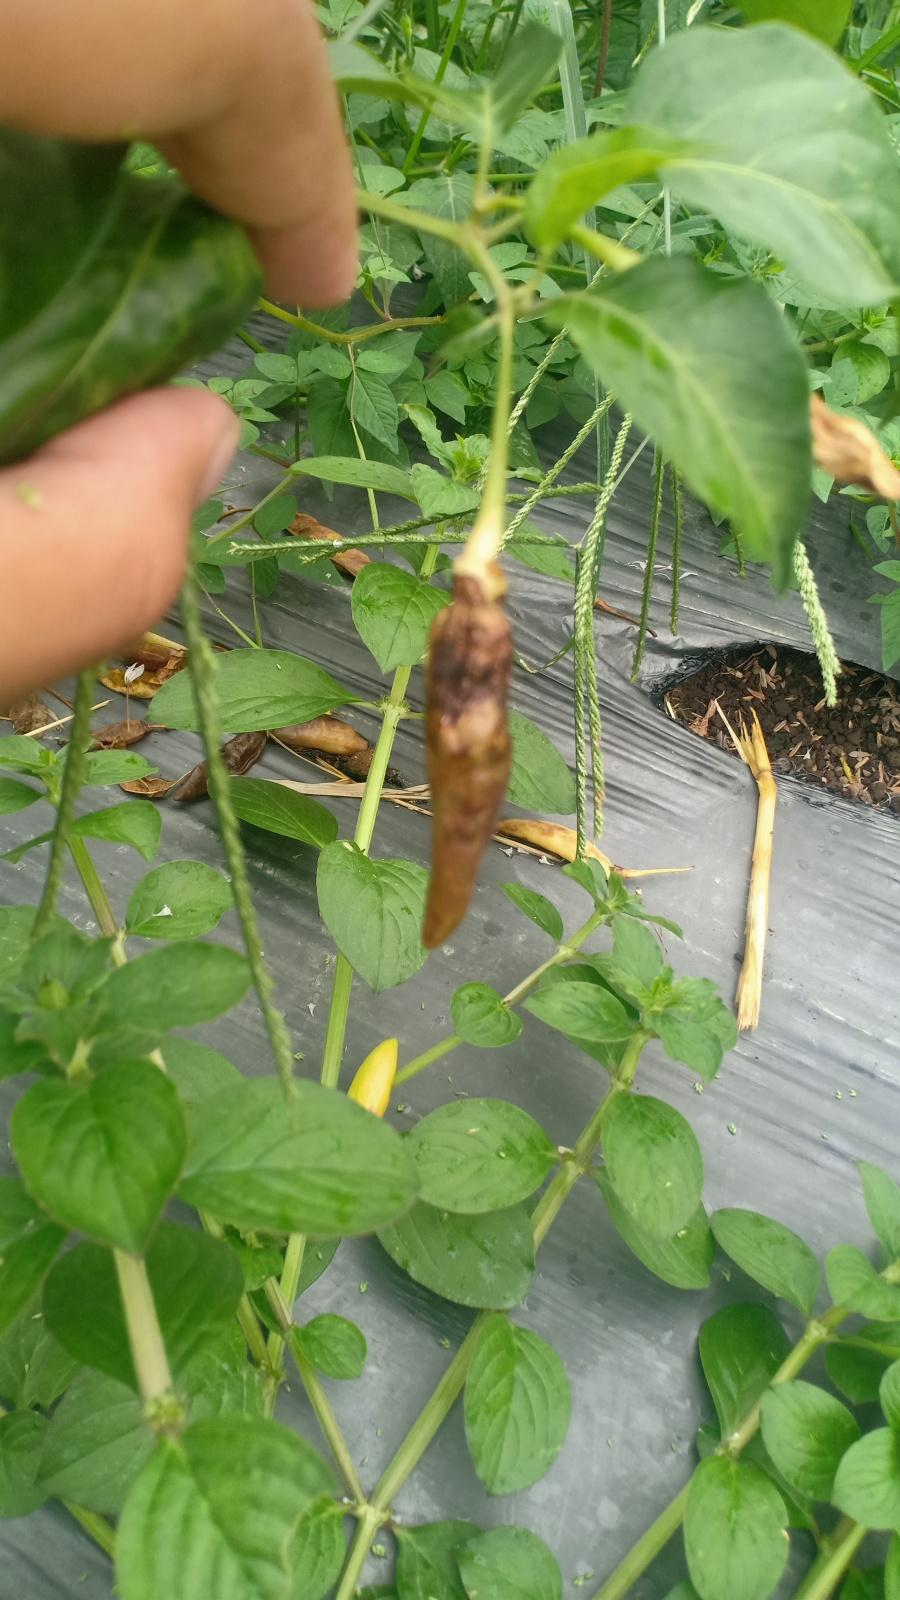lalat_buah: (408, 557, 517, 950)
